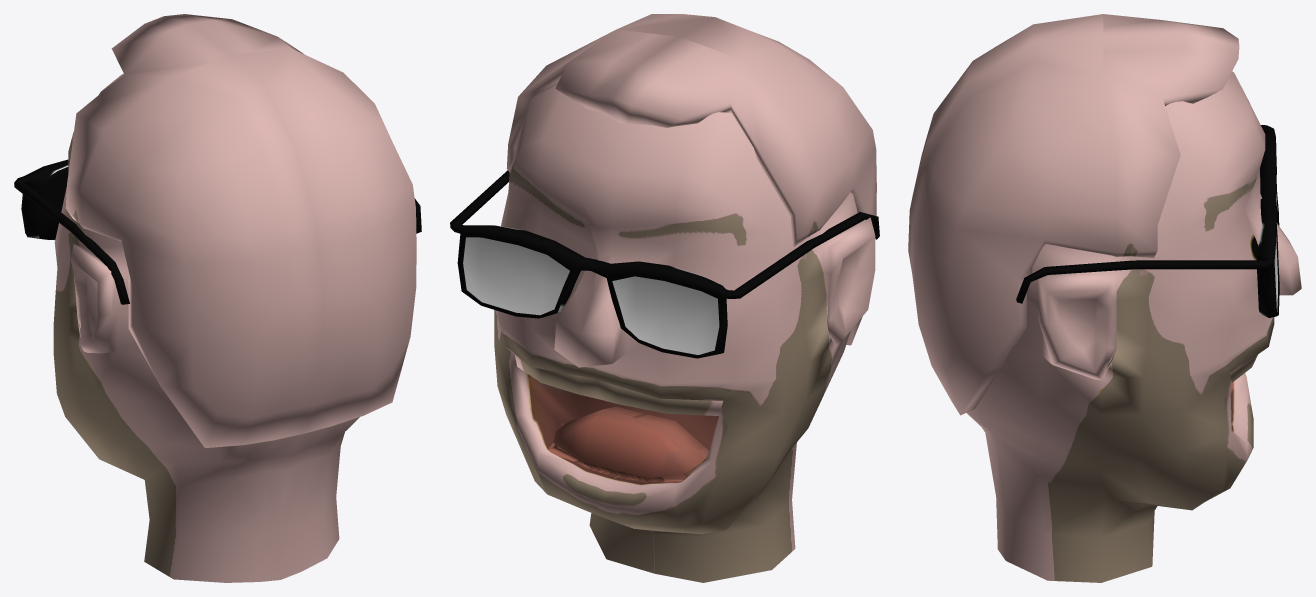
The model's file is BradHeadHappy.fbx.
3 renders of one model, left to right at view 1: azimuth 30°, elevation 25°; view 2: azimuth 150°, elevation 25°; view 3: azimuth 270°, elevation 25°, orthographic. The views are drawn at different scales.
Visible parts, largest first — view 1: Hair, Head, Glasses; view 2: Head, Hair, Glasses; view 3: Head, Hair, Glasses.
Part boxes in pixels (box(x1,y1,x2,y2)): Hair: box(65, 14, 416, 447); Head: box(53, 73, 359, 582); Glasses: box(14, 159, 421, 304); Head: box(494, 82, 875, 582); Hair: box(507, 14, 876, 345); Glasses: box(450, 170, 879, 358); Head: box(966, 71, 1301, 582); Hair: box(908, 14, 1239, 415); Glasses: box(1016, 125, 1279, 317).
Bounding box in the file's own units: 81.43 × 121 × 84.36.
Materials: 4 (4 with a texture image).
